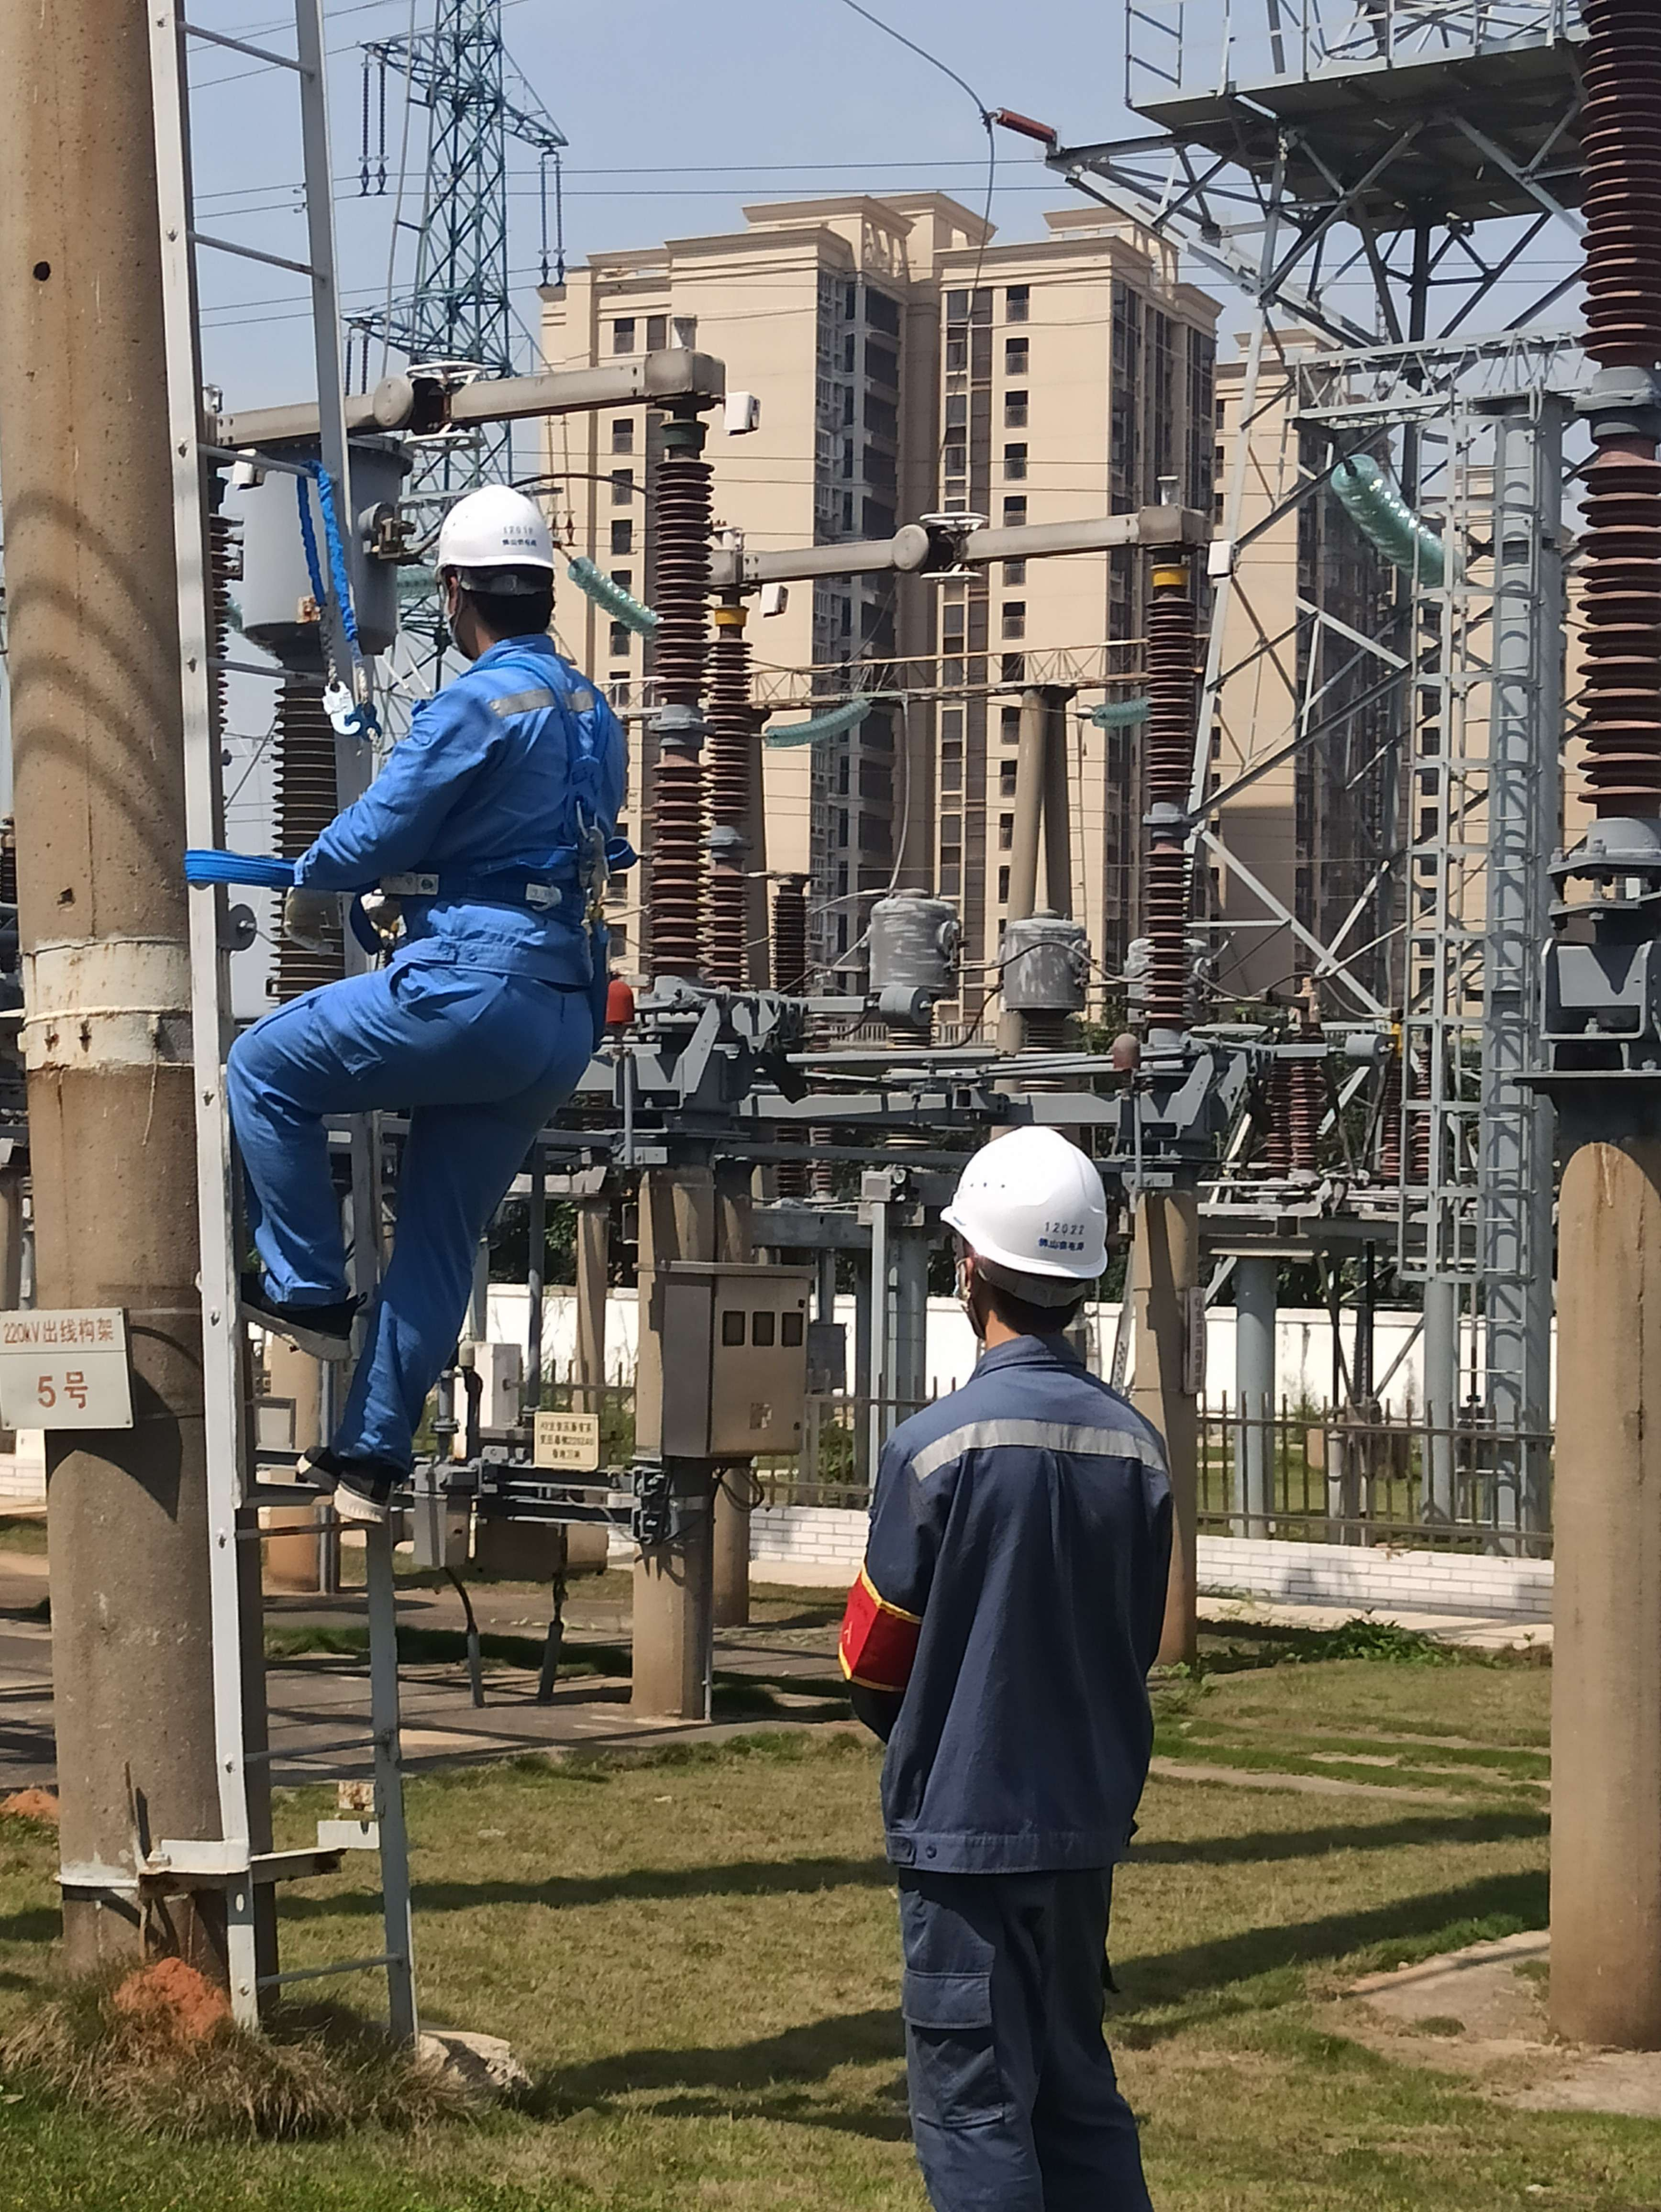downsuit: (222, 1007, 611, 1467), (888, 1903, 1167, 2212)
upsuit: (837, 1329, 1190, 1884), (304, 645, 640, 907)
